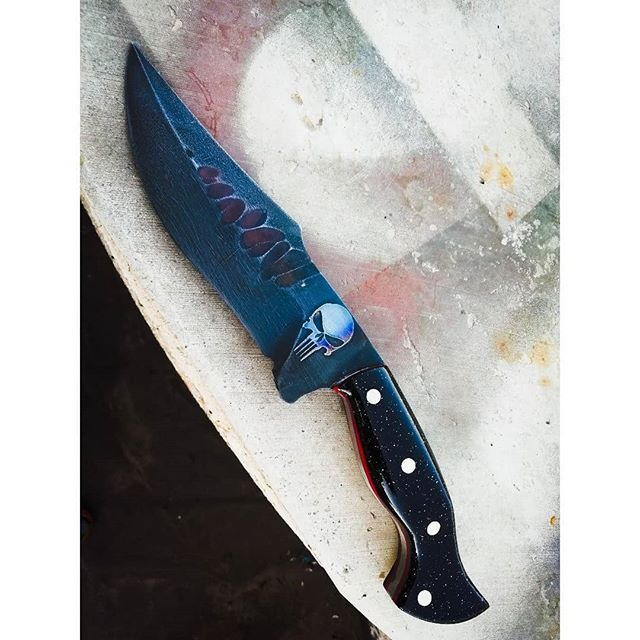knife: (124, 45, 490, 625)
